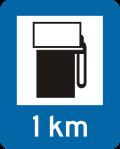Petrol Pump- Gas Station: (9, 10, 111, 142)
